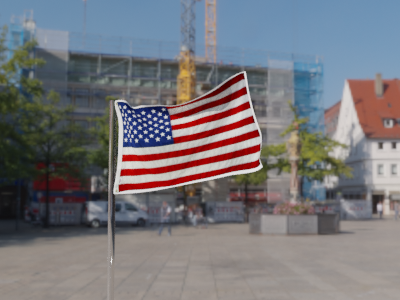America flag: (112, 70, 264, 194)
